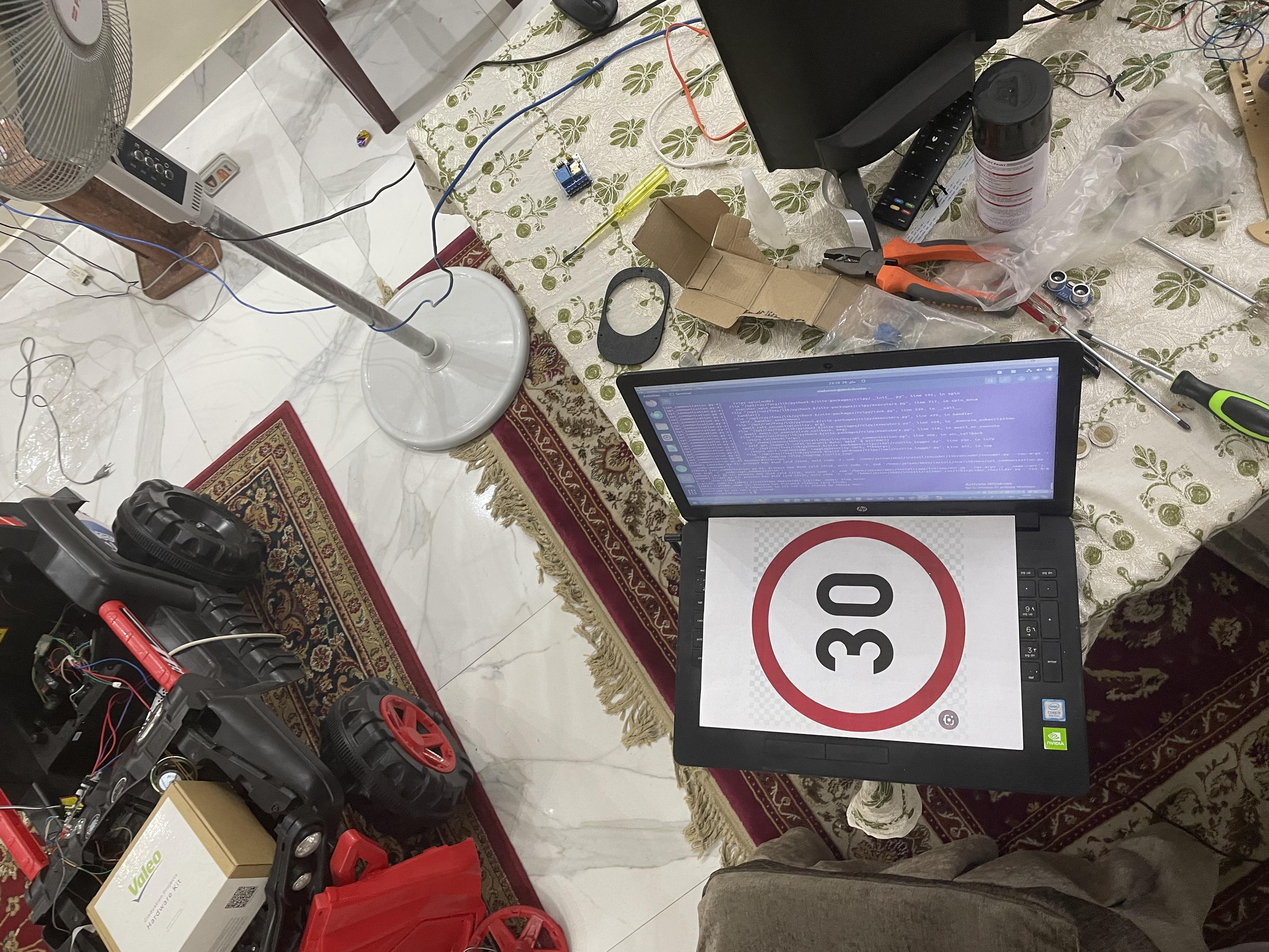30-speed: (291, 562, 588, 721)
